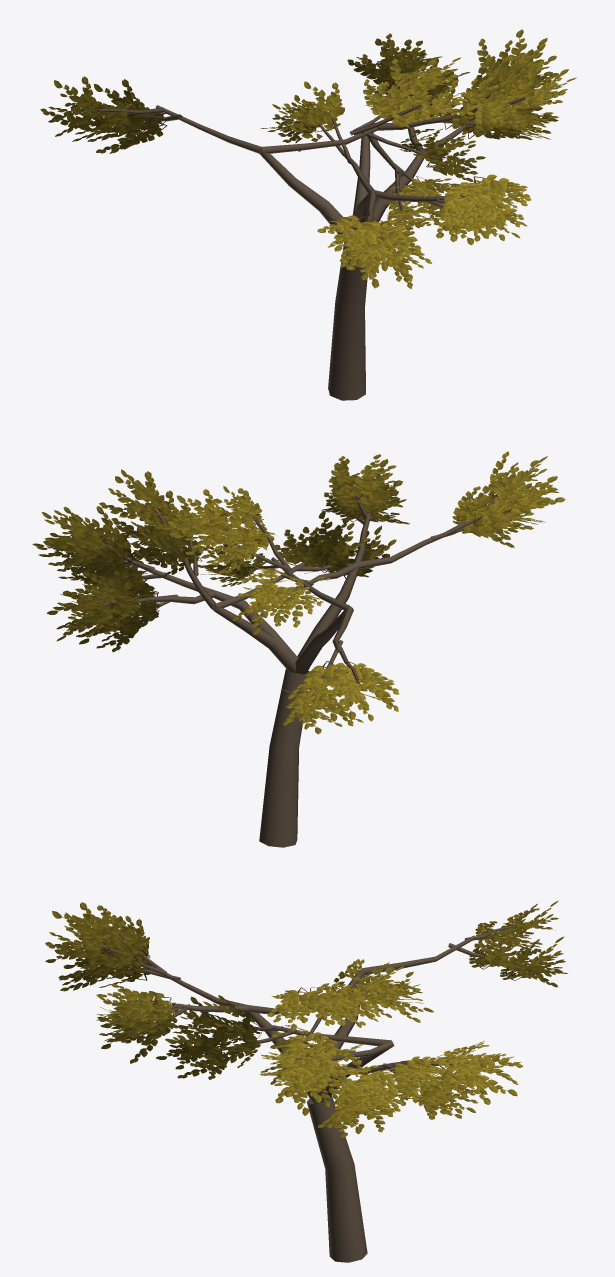
Rendered from acacia_2_burnt1.glb.
The picture shows the model from 3 angles, top to bottom: view 1: azimuth 30°, elevation 25°; view 2: azimuth 150°, elevation 25°; view 3: azimuth 270°, elevation 25°; orthographic projection. The views are drawn at different scales.
Parts seen in each view (by area): view 1: acacia_2_burnt1; view 2: acacia_2_burnt1; view 3: acacia_2_burnt1.
Part boxes in pixels (box(x1,y1,x2,y2)): acacia_2_burnt1: box(40, 29, 576, 400); acacia_2_burnt1: box(32, 451, 565, 847); acacia_2_burnt1: box(45, 900, 567, 1262).
Bounding box in the file's own units: 8.93 × 5.85 × 9.85.
Materials: 2 (1 with a texture image).
